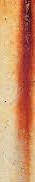Corrosion: (15, 1, 35, 182)
